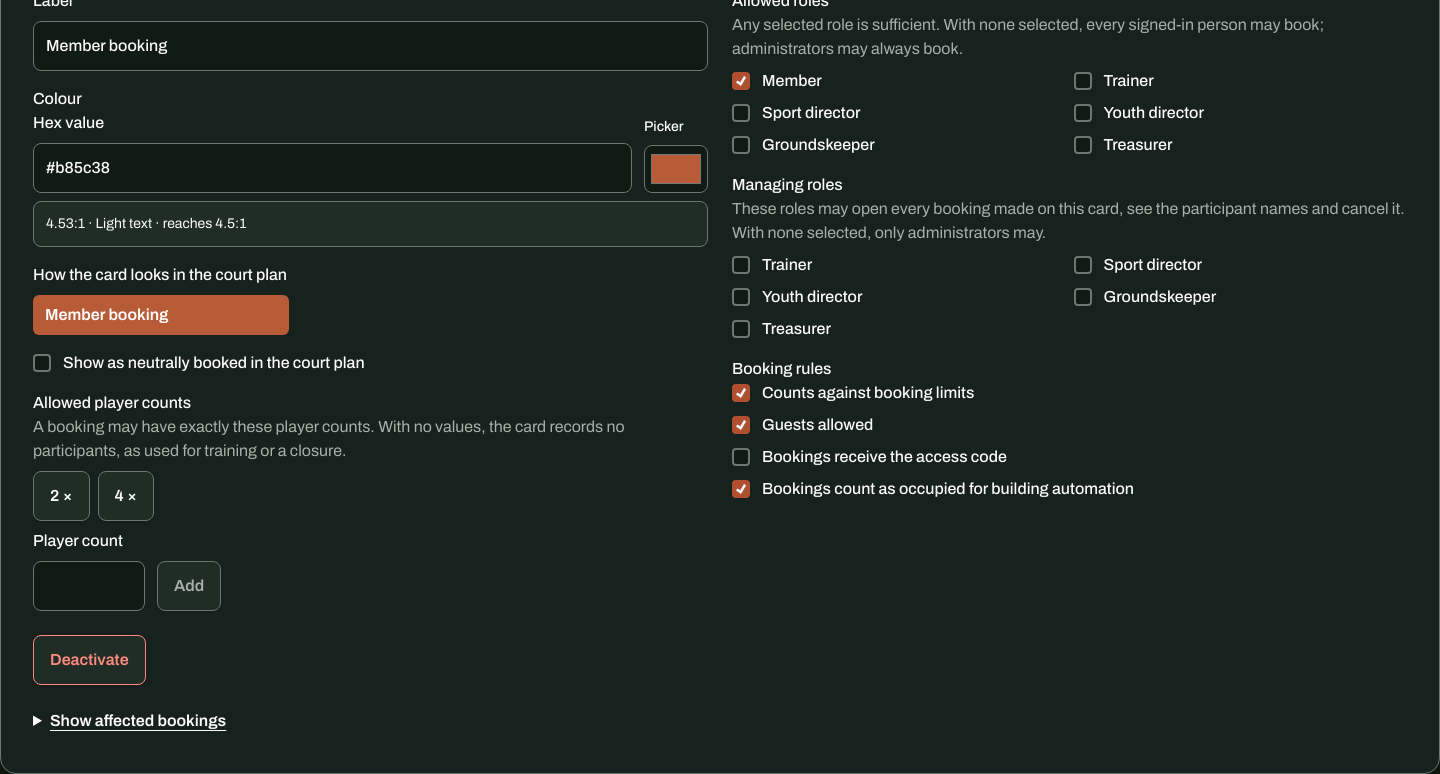
Test: AdminBookingCardView › given a card in use, when its impact is asked for, then the bookings it would displace are named
(page scrolled)
Click the heading with test id "booking-card-impact-card-1": (130, 721) [33,709,226,733]
(page scrolled)
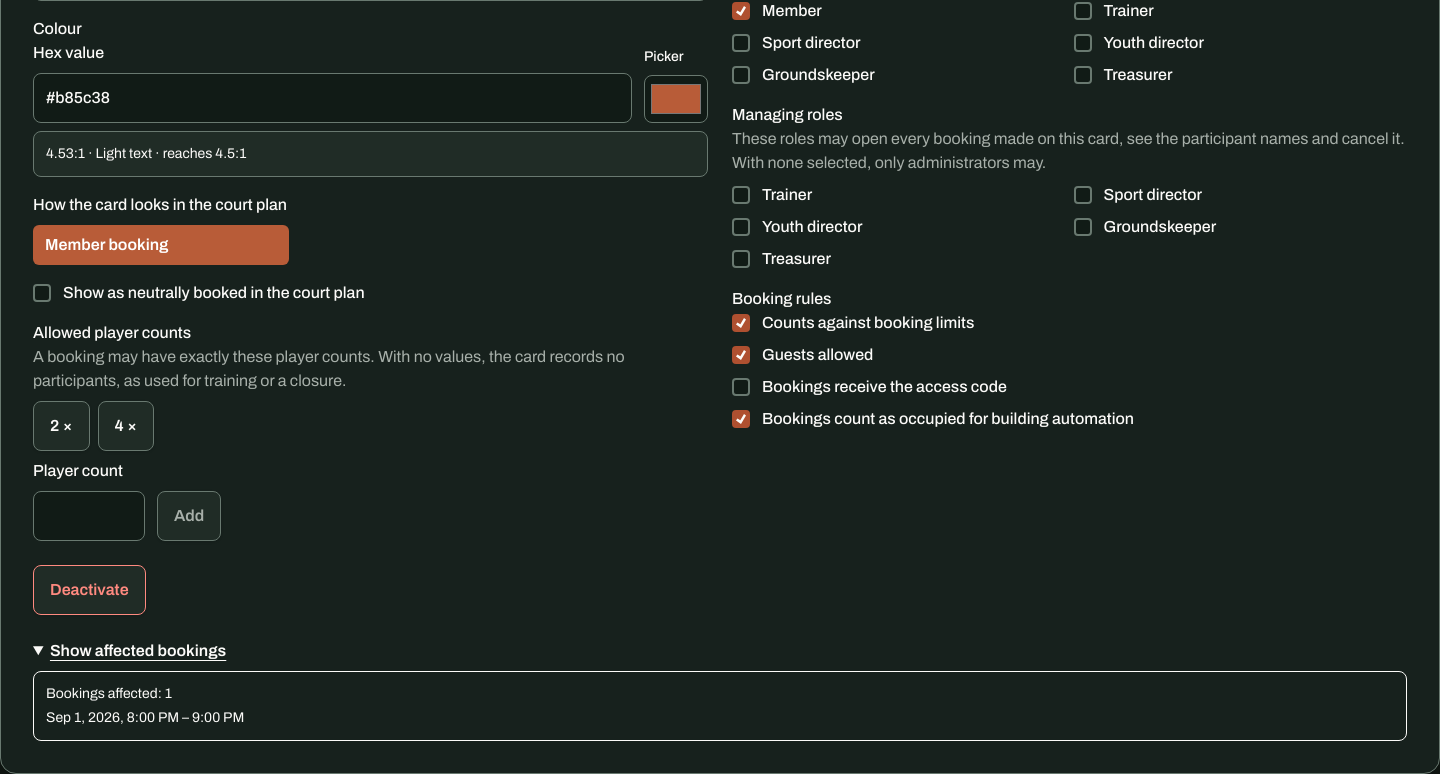
Now the element with test id "impact-card-1" shows "1", box [46,686,172,701]
